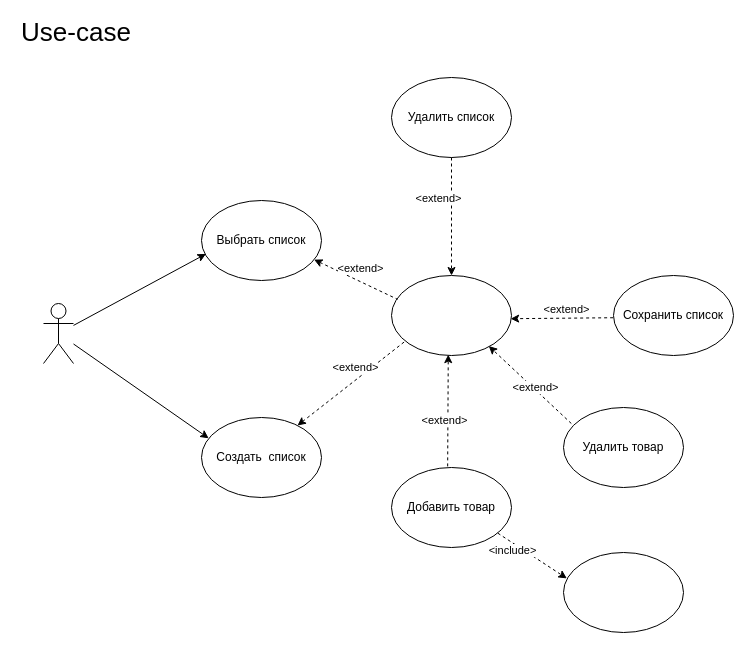
Some shapes in this 751 by 650 pixel diagram are drawn without their labels. The shapes that lost their labels are listed below. From the top down, each one's box as (x1, y1, x2, y2) in pixels, then its label:
(42, 302, 74, 364): User
(390, 274, 512, 356): Редактировать список
(562, 552, 684, 632): Заполнить данные
